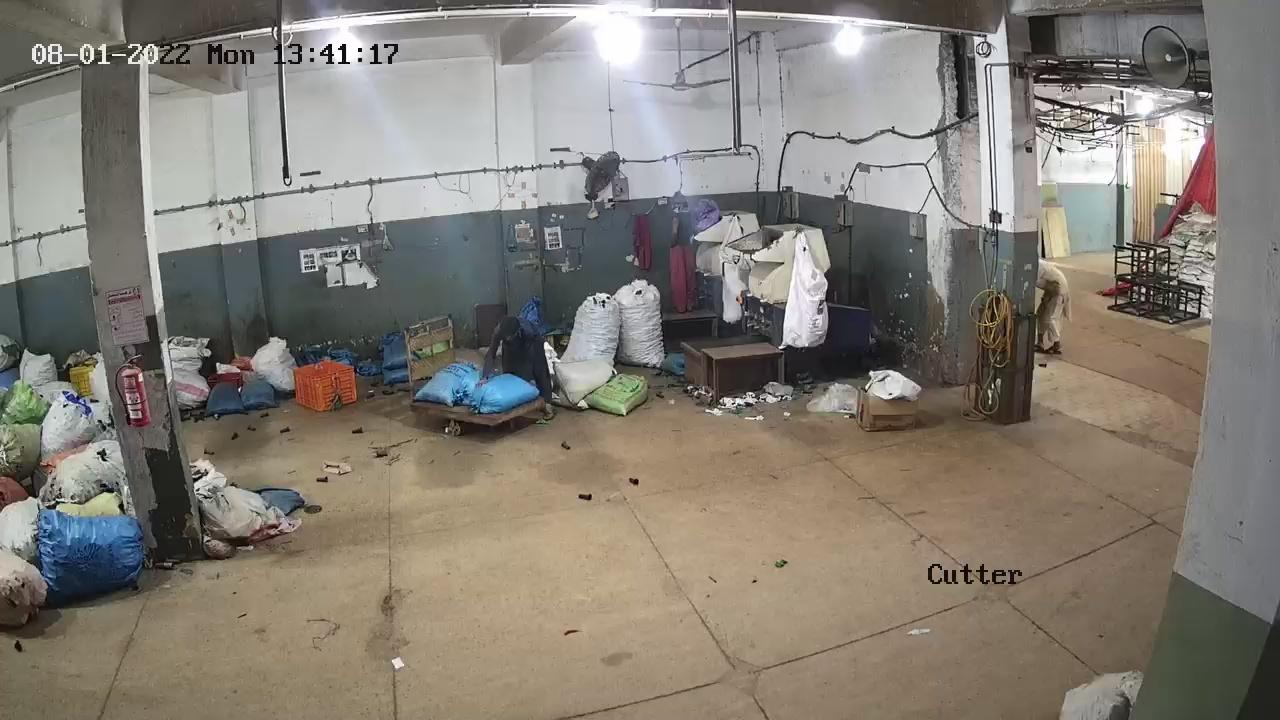person: (487, 323, 547, 383), (667, 190, 694, 308), (1041, 253, 1068, 358)
